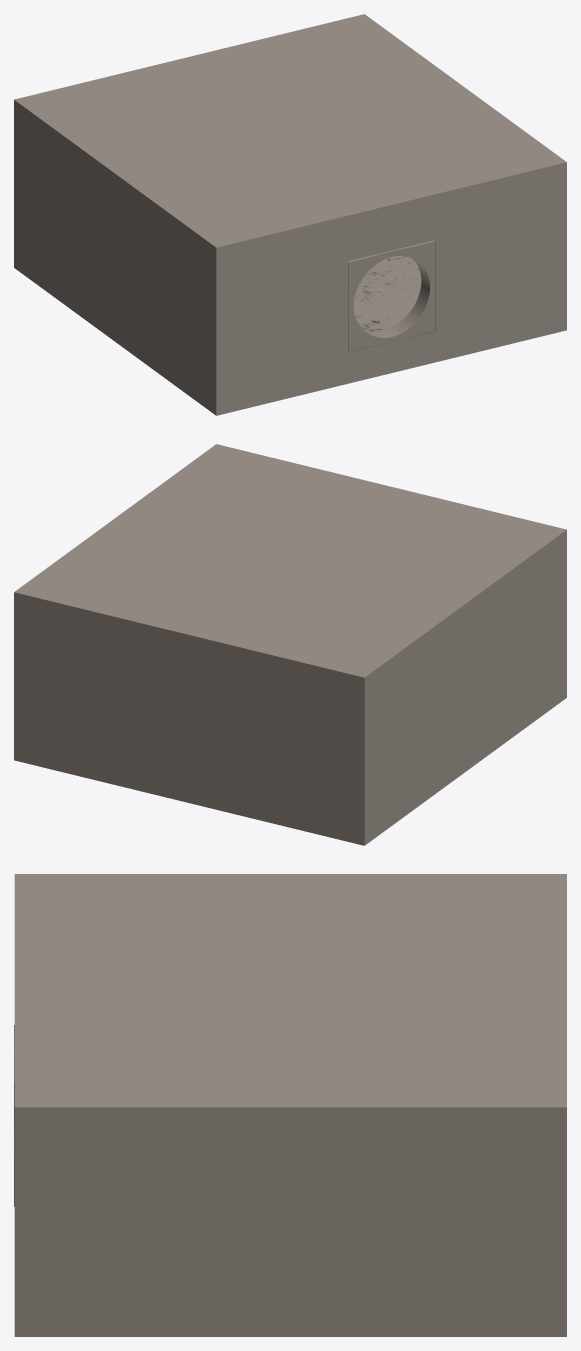
The model's file is RoomBFinal.fbx.
3 renders of one model, top to bottom at view 1: azimuth 30°, elevation 25°; view 2: azimuth 150°, elevation 25°; view 3: azimuth 270°, elevation 25°, orthographic. The views are drawn at different scales.
Visible parts, largest first — view 1: Ceiling, RoomB; view 2: Ceiling, RoomB; view 3: Ceiling, RoomB.
Part boxes in pixels (x1,y1,x2,y2): Ceiling: (14,14,566,278); RoomB: (14,130,566,415); Ceiling: (14,444,566,708); RoomB: (14,560,566,845); Ceiling: (14,874,566,1149); RoomB: (14,1025,566,1336).
Bounding box in the file's own units: 12 × 5.5 × 12.01.
Materials: 3 (3 with a texture image).
